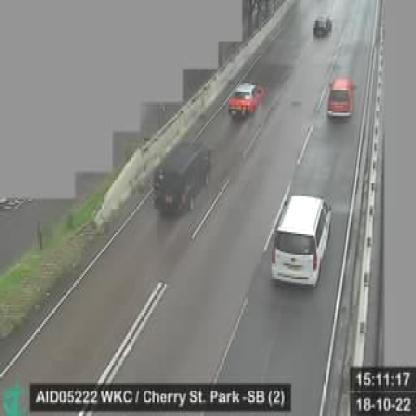Car: (269, 194, 334, 287), (154, 141, 212, 218), (228, 82, 265, 123), (326, 74, 357, 122), (313, 14, 333, 40)
